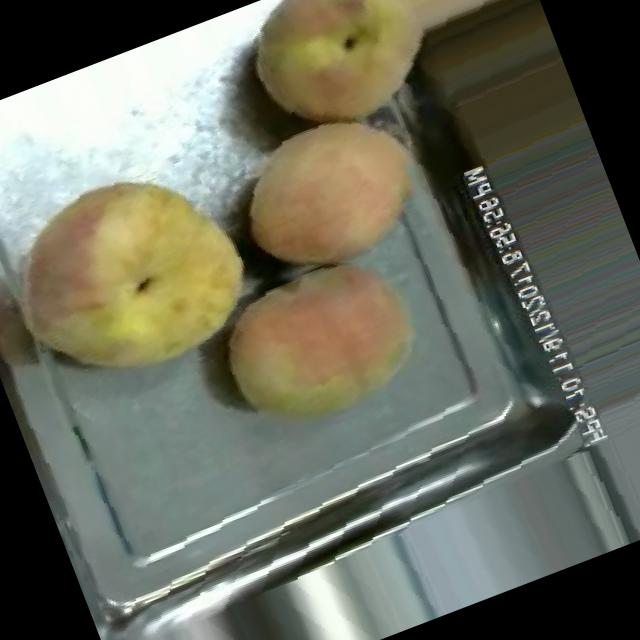Fruit: (0, 131, 279, 417), (196, 234, 446, 459), (211, 82, 448, 296), (221, 0, 464, 159)
